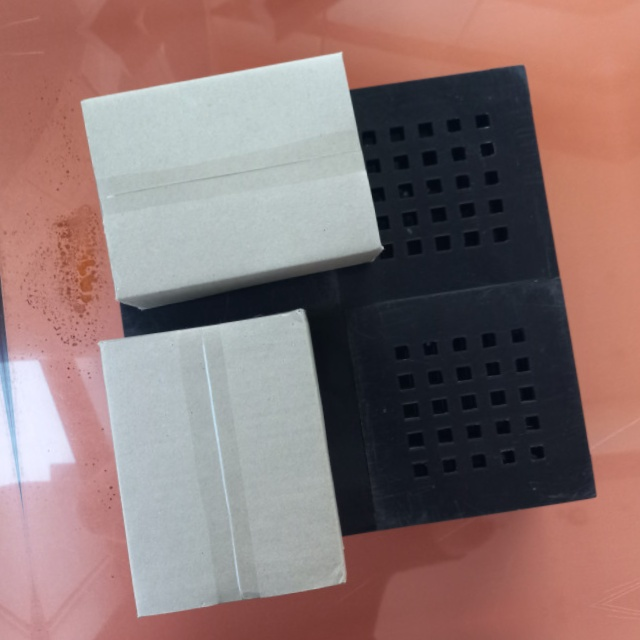box: (79, 50, 385, 314), (96, 310, 346, 620)
